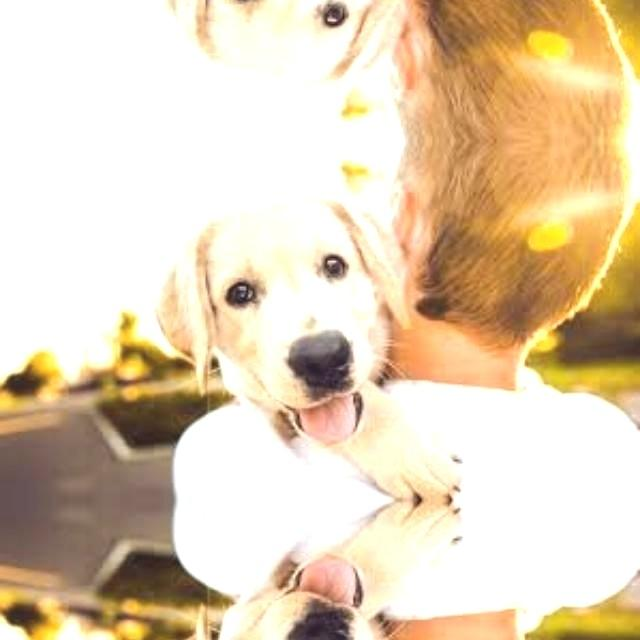dog: (175, 172, 405, 456), (175, 0, 405, 107), (175, 544, 405, 640)
